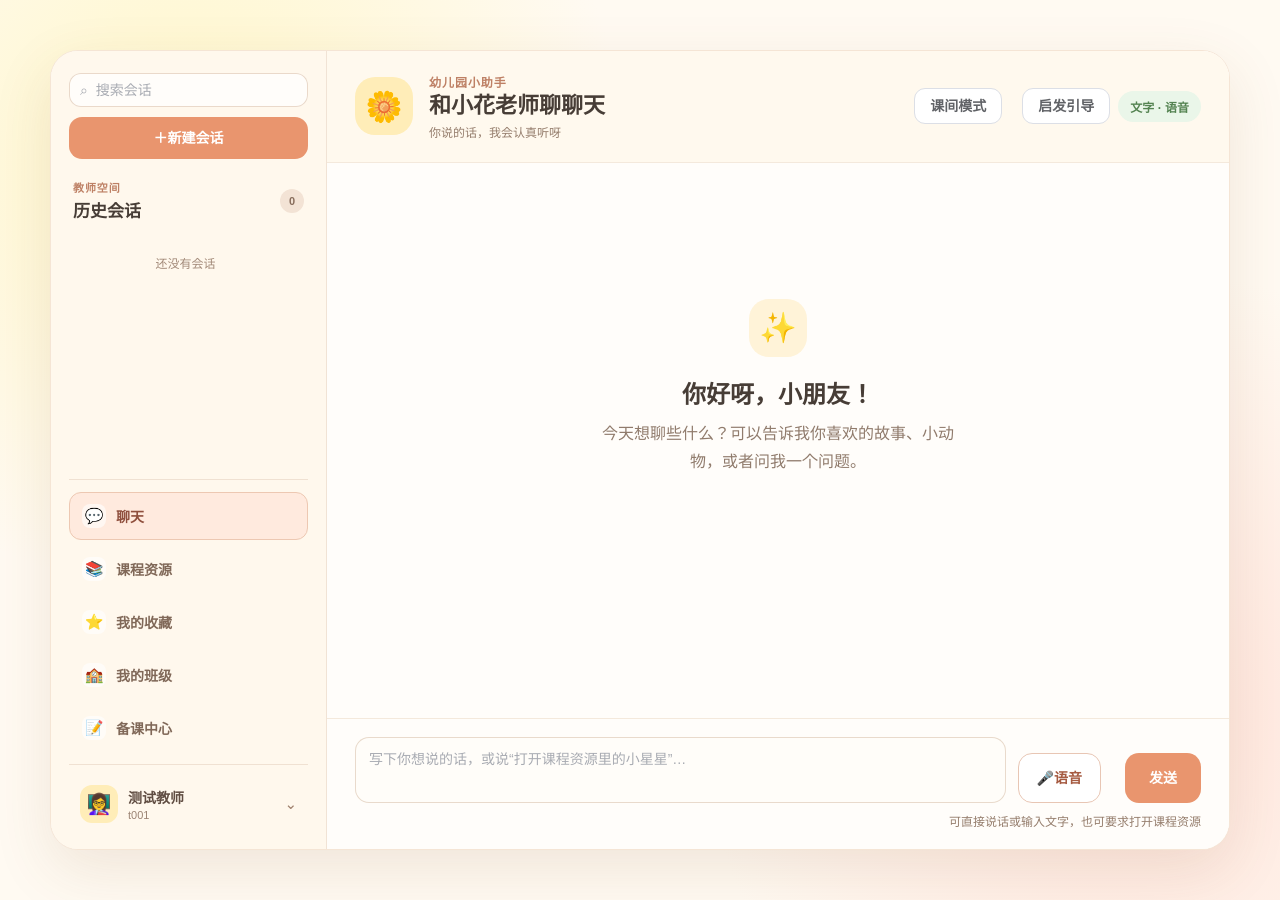
ChatView · 课间模式与启发式助教分离 › 2. 点击课间模式→选择3分钟→startBreak 成功：显示「课间休息」与倒计时
Click the button with class "break-mode-button".
click(958, 106)  # box left=914, top=88, right=1002, bottom=124
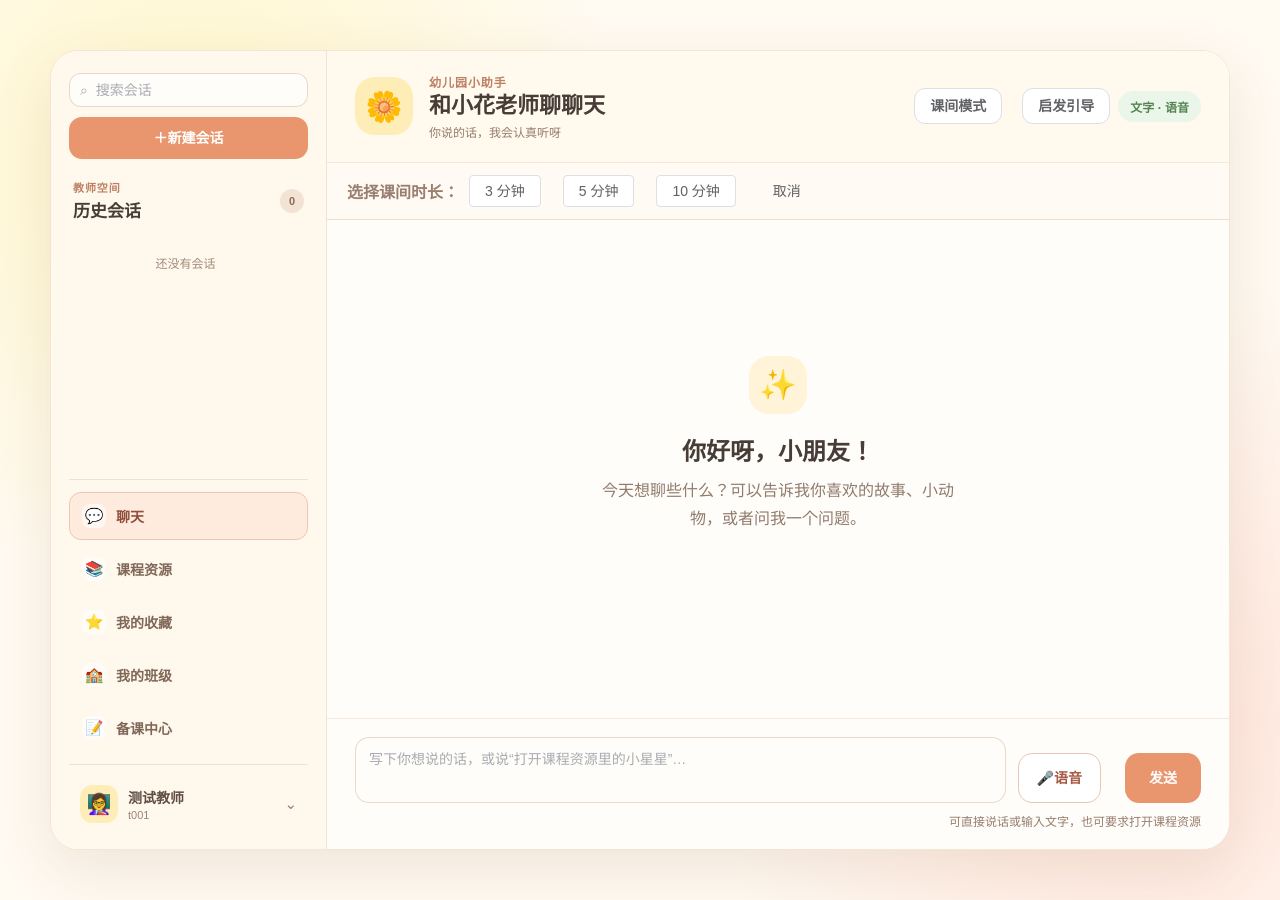
Now the element with test id "break-config" is shown, box left=327, top=163, right=1229, bottom=220
Click the button "3 分钟".
click(505, 191)  # box left=469, top=175, right=541, bottom=207
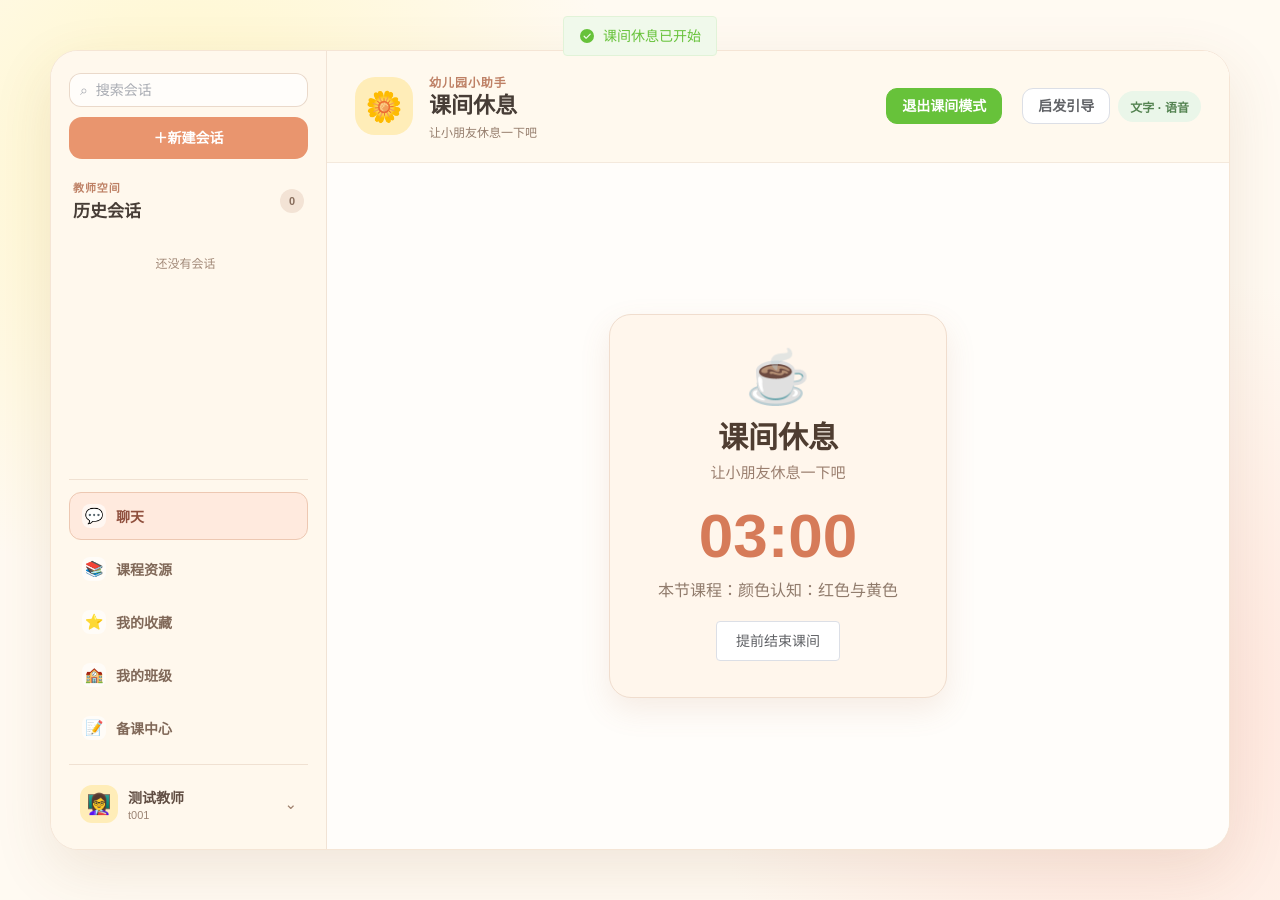
Now the element with test id "chat-break" is shown, box left=609, top=314, right=947, bottom=698
Now the text "课间休息" is shown, box left=429, top=93, right=517, bottom=118
Now the text with test id "chat-break-countdown" reads "03:00", box left=699, top=501, right=857, bottom=570
